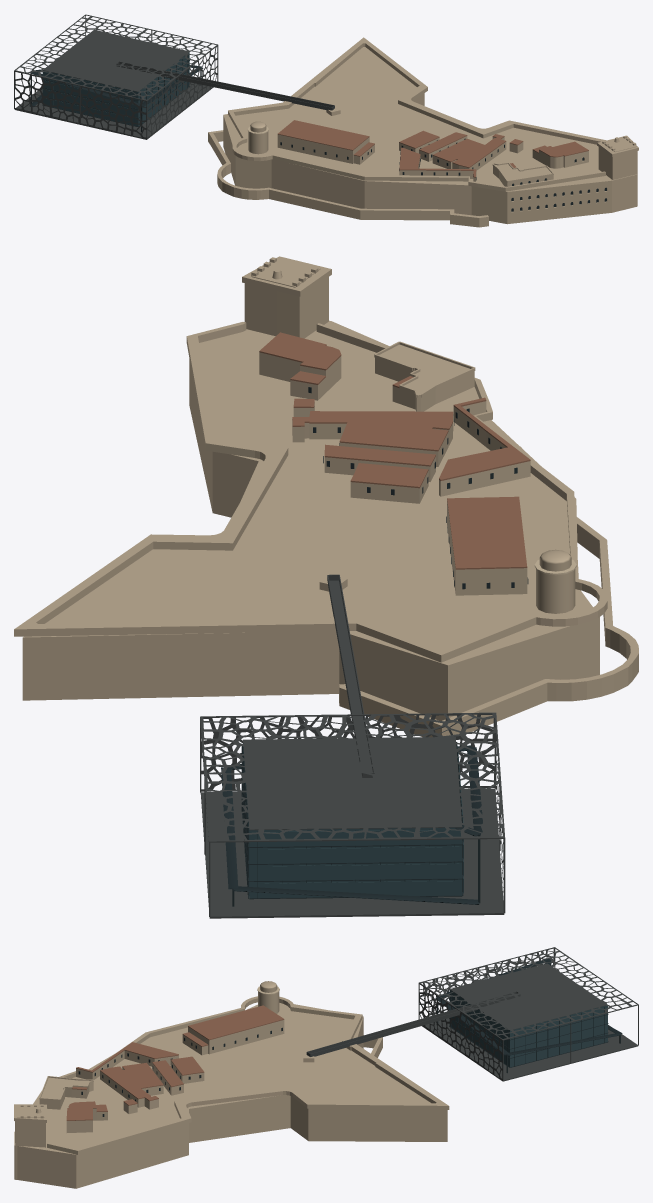
Rendered from mucem-far.glb.
3 views of the same model, one above another, from view 1: azimuth 30°, elevation 25°; view 2: azimuth 150°, elevation 25°; view 3: azimuth 270°, elevation 25° (orthographic). The views are drawn at different scales.
Parts seen in each view (by area): view 1: mucem-0-stone, mucem-0-lattice, mucem-0-roof, mucem-0-glow, mucem-0-frame, mucem-0-glass; view 2: mucem-0-stone, mucem-0-lattice, mucem-0-roof, mucem-0-glow, mucem-0-frame, mucem-0-glass; view 3: mucem-0-stone, mucem-0-lattice, mucem-0-roof, mucem-0-glass, mucem-0-frame.
Boxes of the visible parts, x1,y1,x2,y2 form: mucem-0-stone: (208, 37, 638, 227); mucem-0-lattice: (14, 14, 334, 139); mucem-0-roof: (278, 120, 588, 177); mucem-0-glow: (43, 72, 130, 124); mucem-0-frame: (29, 55, 606, 211); mucem-0-glass: (42, 52, 189, 126); mucem-0-stone: (14, 256, 638, 737); mucem-0-lattice: (200, 574, 505, 918); mucem-0-roof: (259, 332, 530, 569); mucem-0-glow: (264, 746, 463, 897); mucem-0-frame: (221, 387, 528, 906); mucem-0-glass: (243, 743, 462, 898); mucem-0-stone: (14, 981, 449, 1188); mucem-0-lattice: (306, 947, 638, 1081); mucem-0-roof: (66, 1005, 284, 1120); mucem-0-glass: (449, 990, 607, 1067); mucem-0-frame: (78, 959, 622, 1116).
Bounding box in the file's own units: 214 × 33 × 283.
